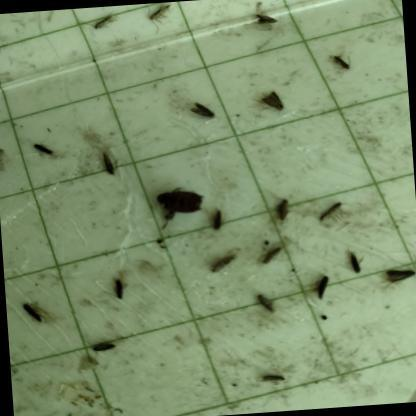prays_oleae: (181, 78, 223, 142), (210, 242, 246, 300), (88, 132, 122, 188), (14, 290, 53, 338), (313, 190, 349, 239), (380, 258, 416, 303), (252, 240, 291, 280), (258, 78, 288, 130), (306, 258, 333, 310), (91, 6, 127, 42), (258, 361, 290, 401), (254, 289, 285, 329), (340, 246, 368, 284), (137, 1, 179, 26), (258, 4, 284, 43), (332, 46, 358, 84), (24, 133, 54, 165), (273, 192, 299, 224), (86, 337, 122, 358), (107, 274, 129, 306), (0, 31, 6, 77), (0, 139, 5, 178)
